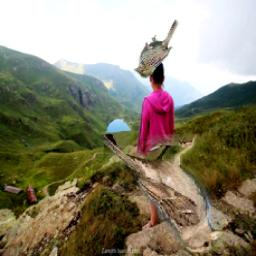Sparrow: (104, 135, 222, 254), (134, 19, 180, 78)
